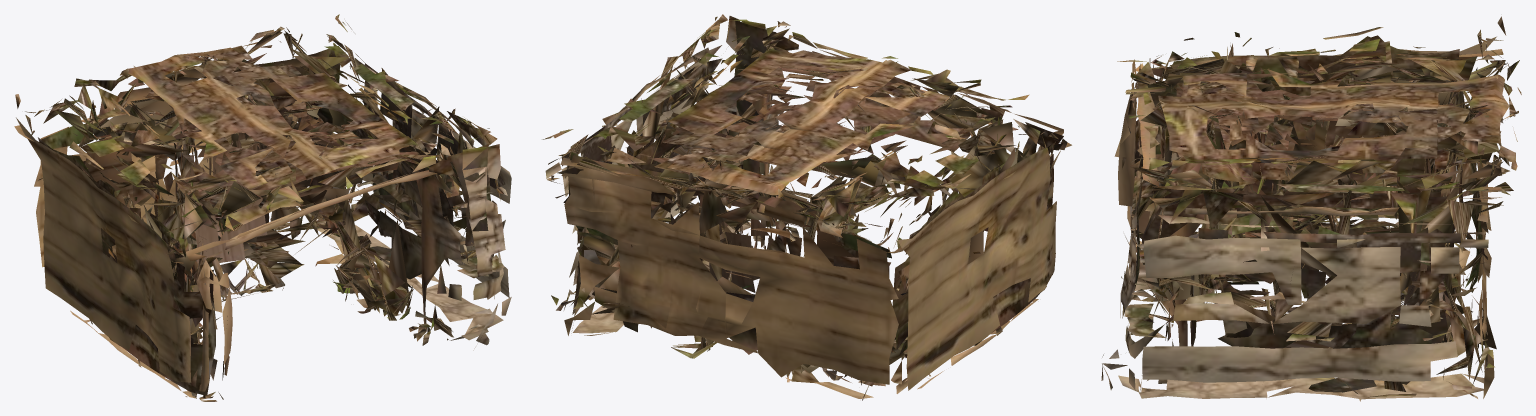
Rendered from vorratshuette.glb.
3 views of the same model, side by side, from view 1: azimuth 30°, elevation 25°; view 2: azimuth 150°, elevation 25°; view 3: azimuth 270°, elevation 25° (orthographic). The views are drawn at different scales.
Size of the model in its own units: 1.96 by 1.11 by 1.87.
Materials: 1 (1 with a texture image).
